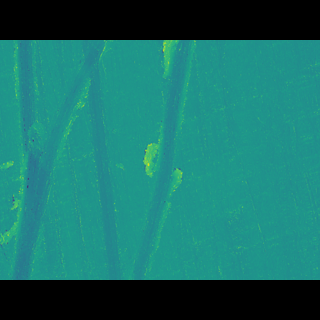Loch: (8, 69, 109, 251), (124, 68, 199, 251)
